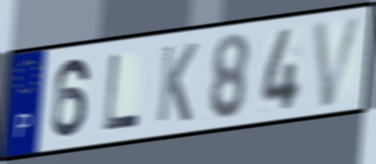4: (259, 24, 302, 113)
6: (50, 56, 92, 141)
8: (208, 30, 251, 122)
K: (154, 41, 200, 126)
L: (101, 51, 141, 134)
V: (310, 12, 366, 111)
